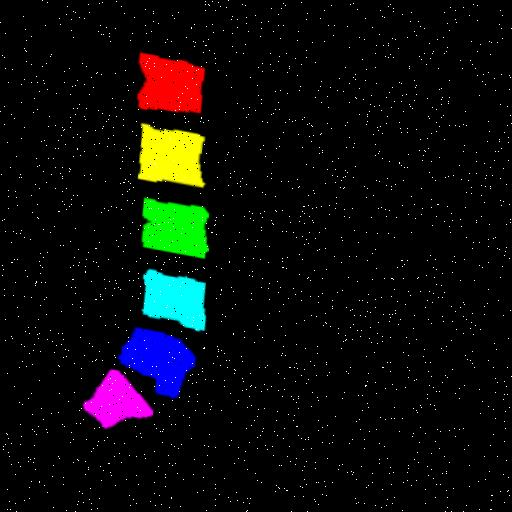L1: (138, 51, 204, 112)
L2: (137, 122, 204, 185)
L3: (142, 198, 205, 255)
L4: (141, 269, 204, 328)
L5: (118, 325, 193, 395)
S1: (81, 368, 151, 427)
